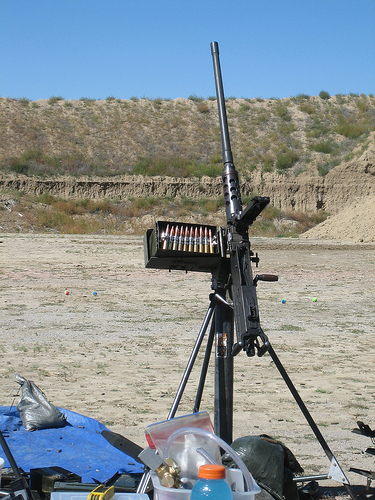rifle: (156, 38, 295, 365)
